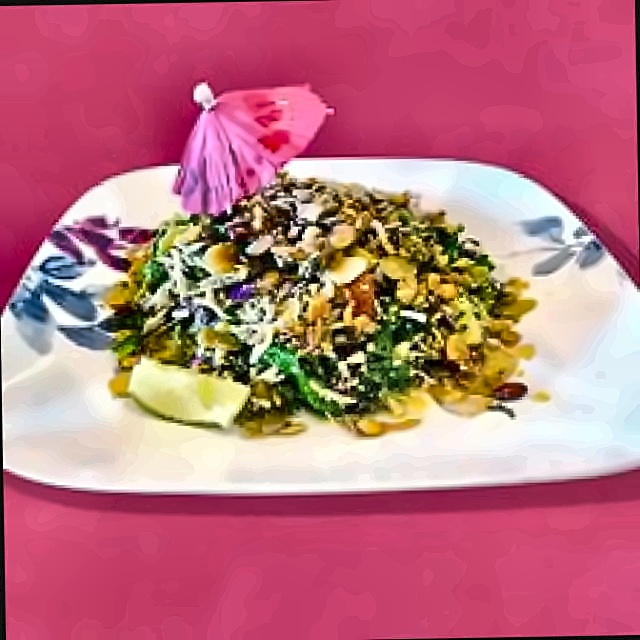lime_wedge: (129, 356, 250, 430)
